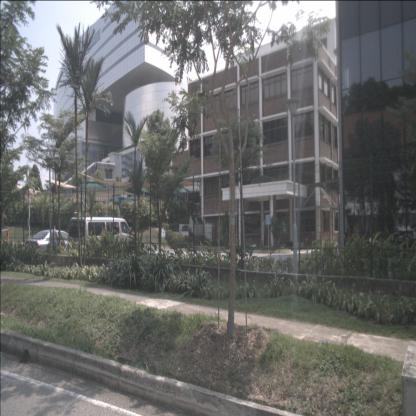human-pedestrian-adult: (49, 225, 59, 264)
vehicle-car: (67, 217, 136, 266), (24, 229, 81, 259)
